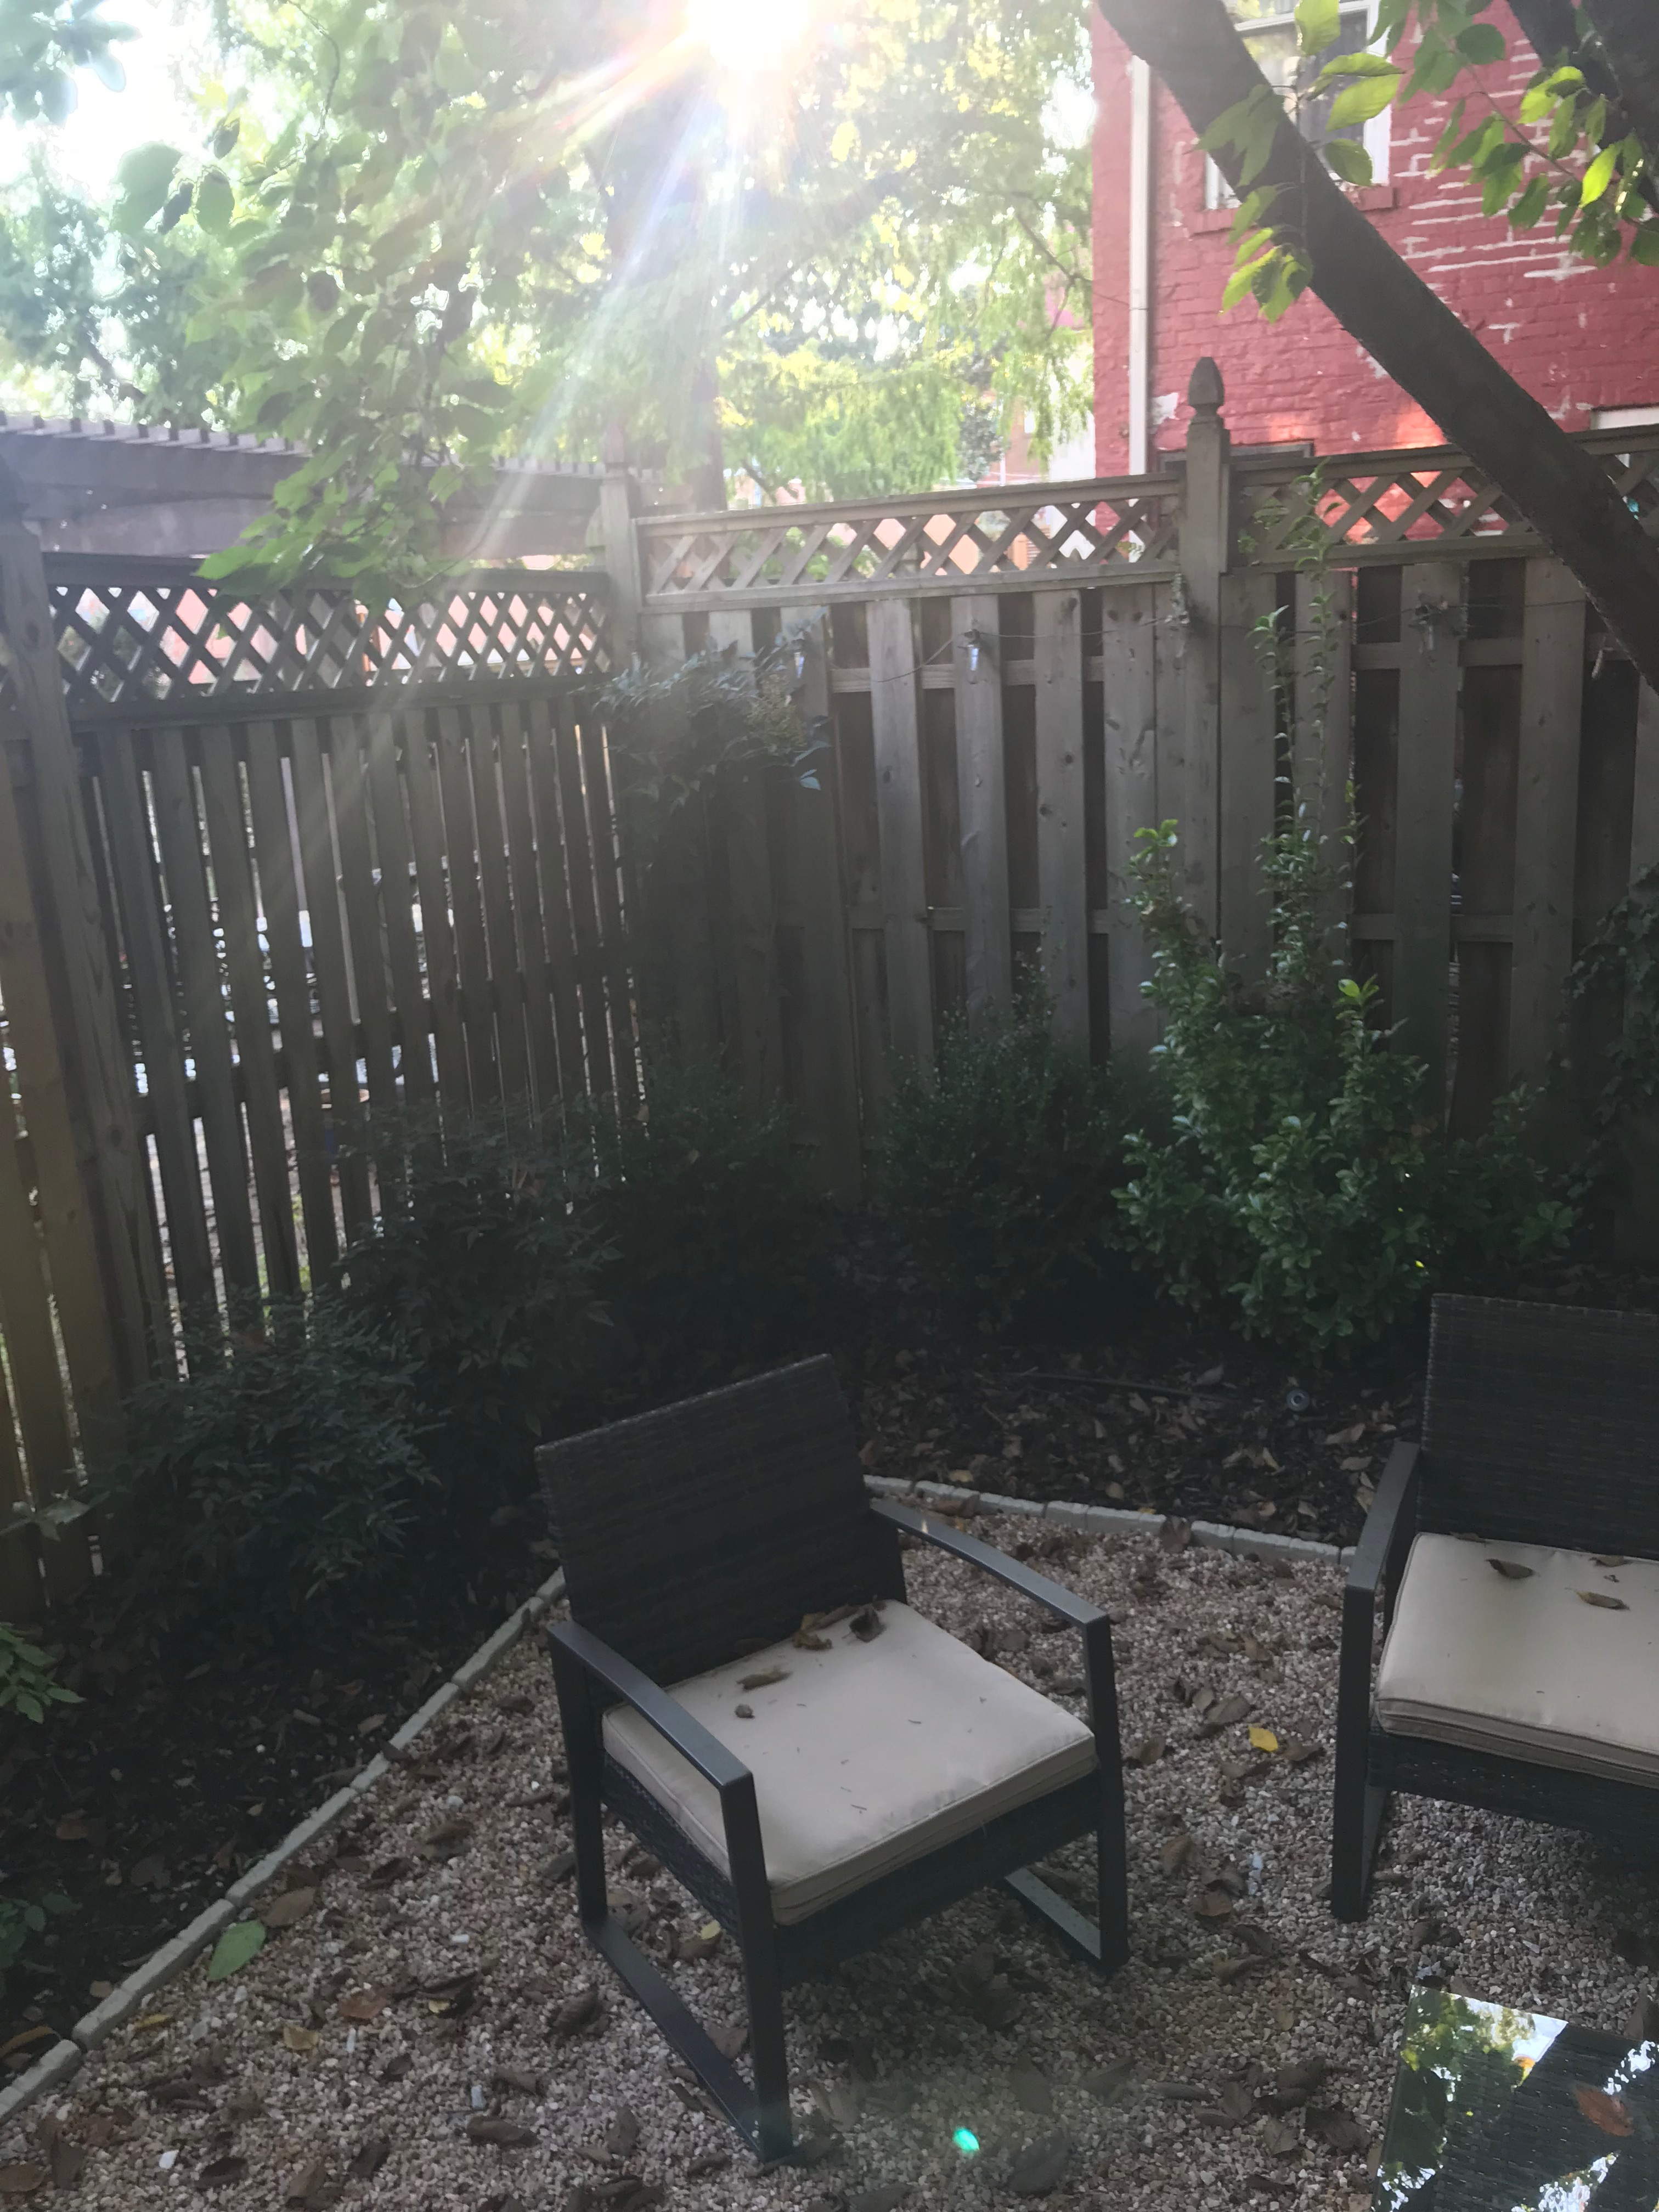flare: (950, 2125, 983, 2156)
